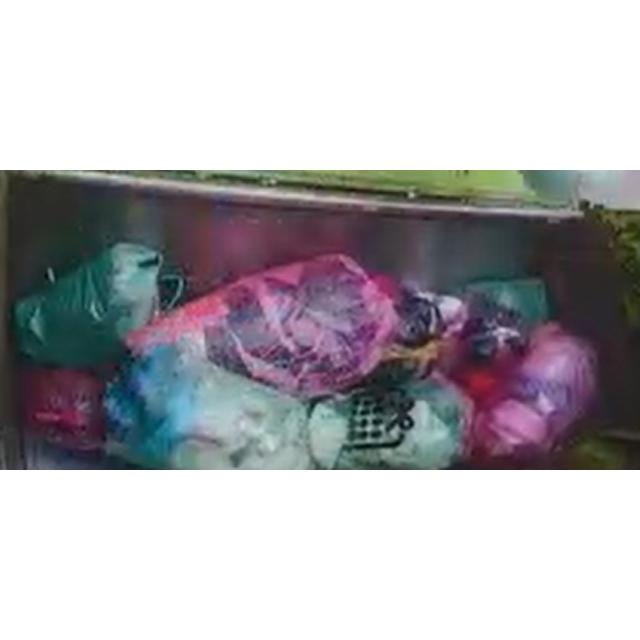general_trashbag: (14, 244, 160, 367), (335, 399, 459, 470)
other_trashbag: (126, 255, 400, 398), (475, 322, 596, 456), (21, 369, 104, 452)
